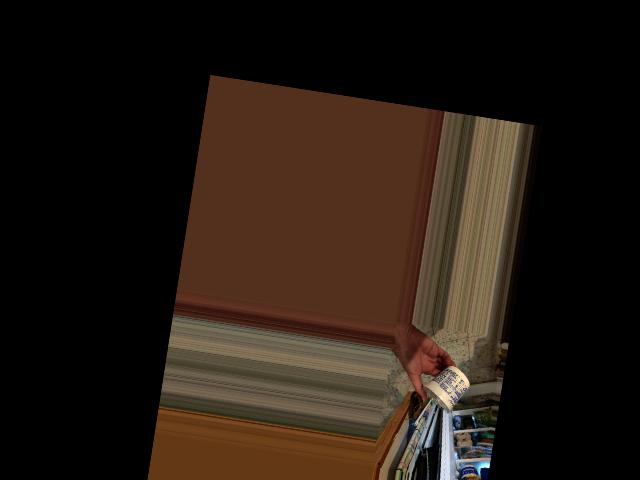cotage: (420, 360, 473, 417)
